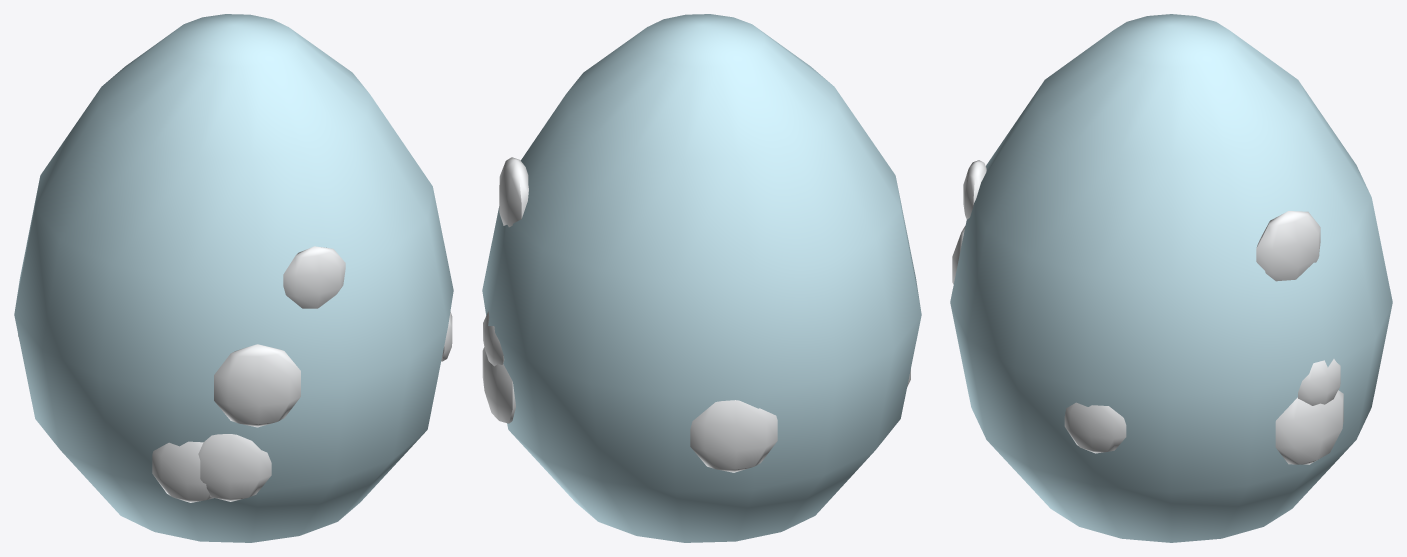
File: SnowEgg.fbx
3 views of the same model, side by side, from view 1: azimuth 30°, elevation 25°; view 2: azimuth 150°, elevation 25°; view 3: azimuth 270°, elevation 25° (orthographic).
Parts seen in each view (by area): view 1: SnowEgg; view 2: SnowEgg; view 3: SnowEgg.
Part boxes in pixels (x1,y1,x2,y2): SnowEgg: [14, 14, 453, 542]; SnowEgg: [482, 14, 921, 542]; SnowEgg: [950, 14, 1392, 542].
Bounding box in the file's own units: 2.1 × 2.5 × 2.1.
1 material, 1 textured.
